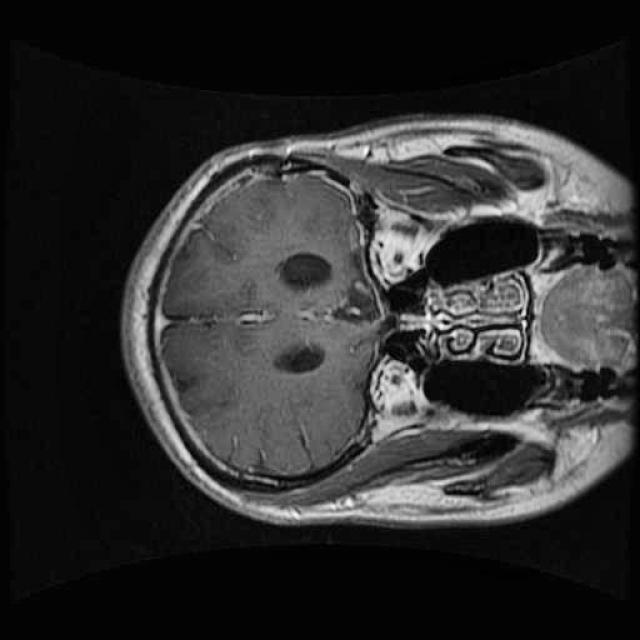Tumor: (313, 244, 396, 348)
